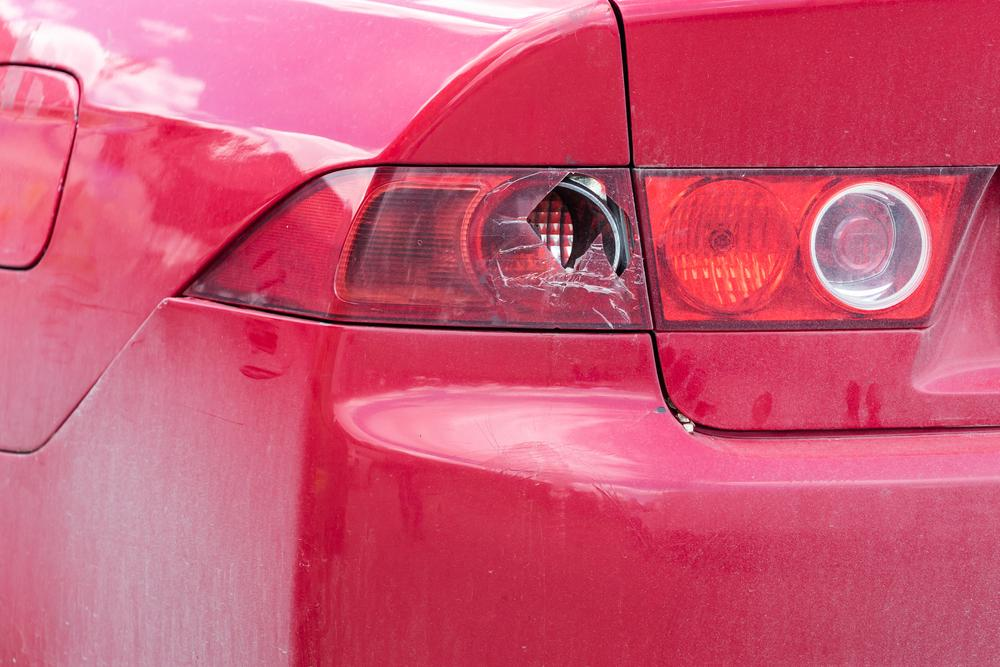lamp broken: (169, 164, 655, 330)
